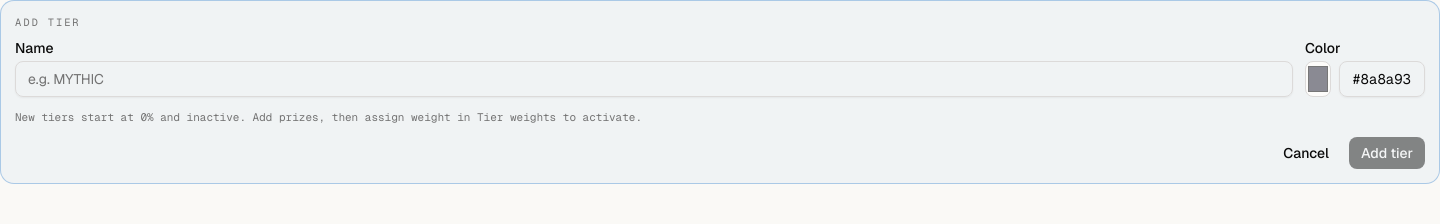
Test: NewTierSheet › flags duplicate names and blocks submit
In the field with placeholder "e.g. MYTHIC": (654, 79) [15, 61, 1293, 97], type "rare"
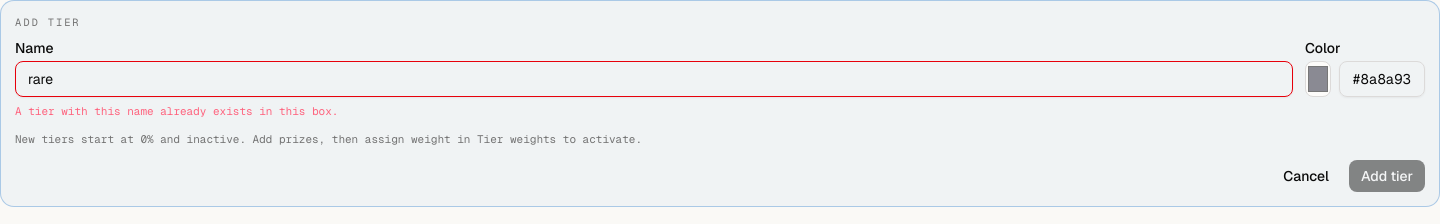
Expected: the button "Add tier" is disabled, [1349, 160, 1425, 192]
Expected: the text "A tier with this name already exists in this box." is shown, [15, 104, 338, 118]
